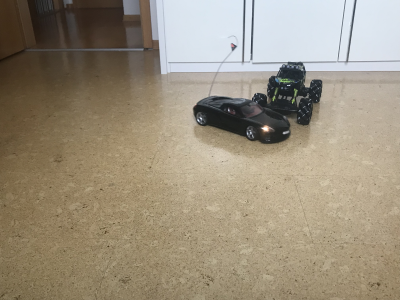remote control car: (251, 55, 325, 125)
